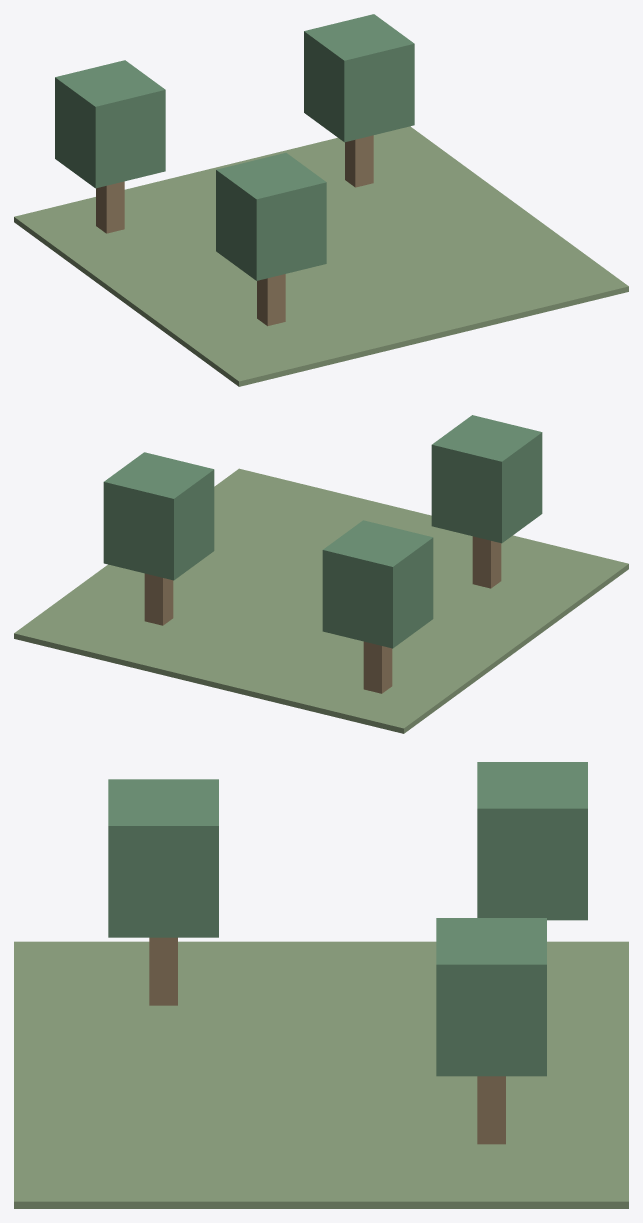
The model's file is demo-riverbank.glb.
3 renders of one model, top to bottom at view 1: azimuth 30°, elevation 25°; view 2: azimuth 150°, elevation 25°; view 3: azimuth 270°, elevation 25°, orthographic. The views are drawn at different scales.
Visible parts, largest first — view 1: ground-floor, tree-crown (×3), tree-trunk (×3); view 2: ground-floor, tree-crown (×3), tree-trunk (×3); view 3: ground-floor, tree-crown (×3), tree-trunk (×2).
Boxes of the visible parts, left/top/right/bottom form: ground-floor: left=14, top=126, right=628, bottom=386; tree-crown (×3): left=55, top=14, right=414, bottom=280; tree-trunk (×3): left=96, top=135, right=373, bottom=326; ground-floor: left=14, top=468, right=628, bottom=733; tree-crown (×3): left=103, top=415, right=542, bottom=648; tree-trunk (×3): left=144, top=536, right=501, bottom=693; ground-floor: left=14, top=941, right=628, bottom=1208; tree-crown (×3): left=108, top=762, right=587, bottom=1076; tree-trunk (×2): left=149, top=937, right=505, bottom=1144.
Bounding box in the file's own units: 15 × 5.5 × 15.
